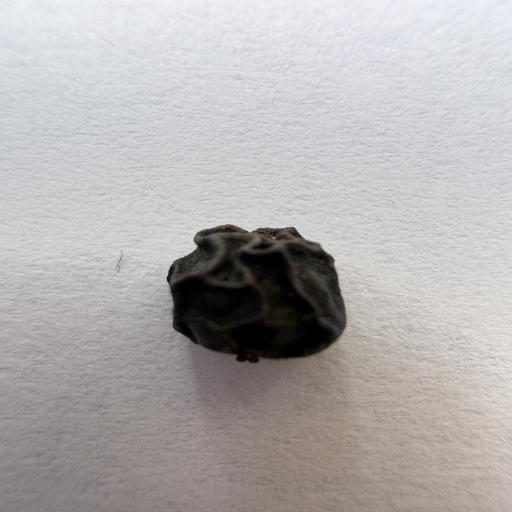Black_pepper: (103, 179, 382, 388)
